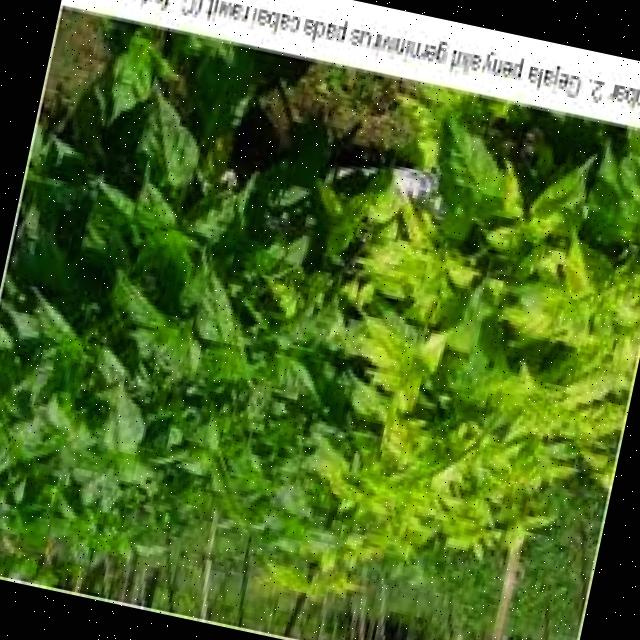yellow: (170, 54, 640, 640)
